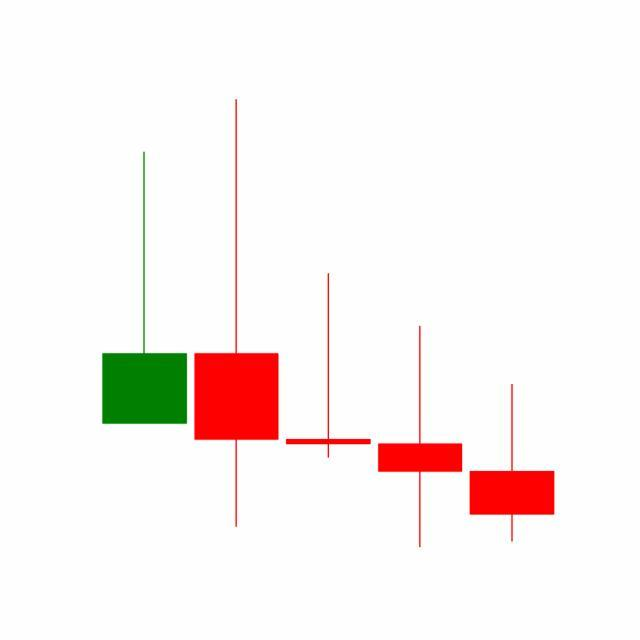Spinning Top: (374, 324, 468, 551)
